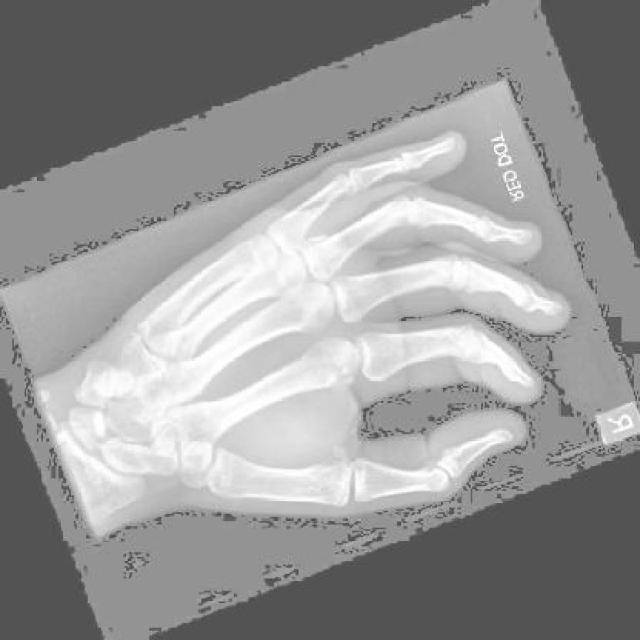Fracture: (295, 231, 351, 285)
